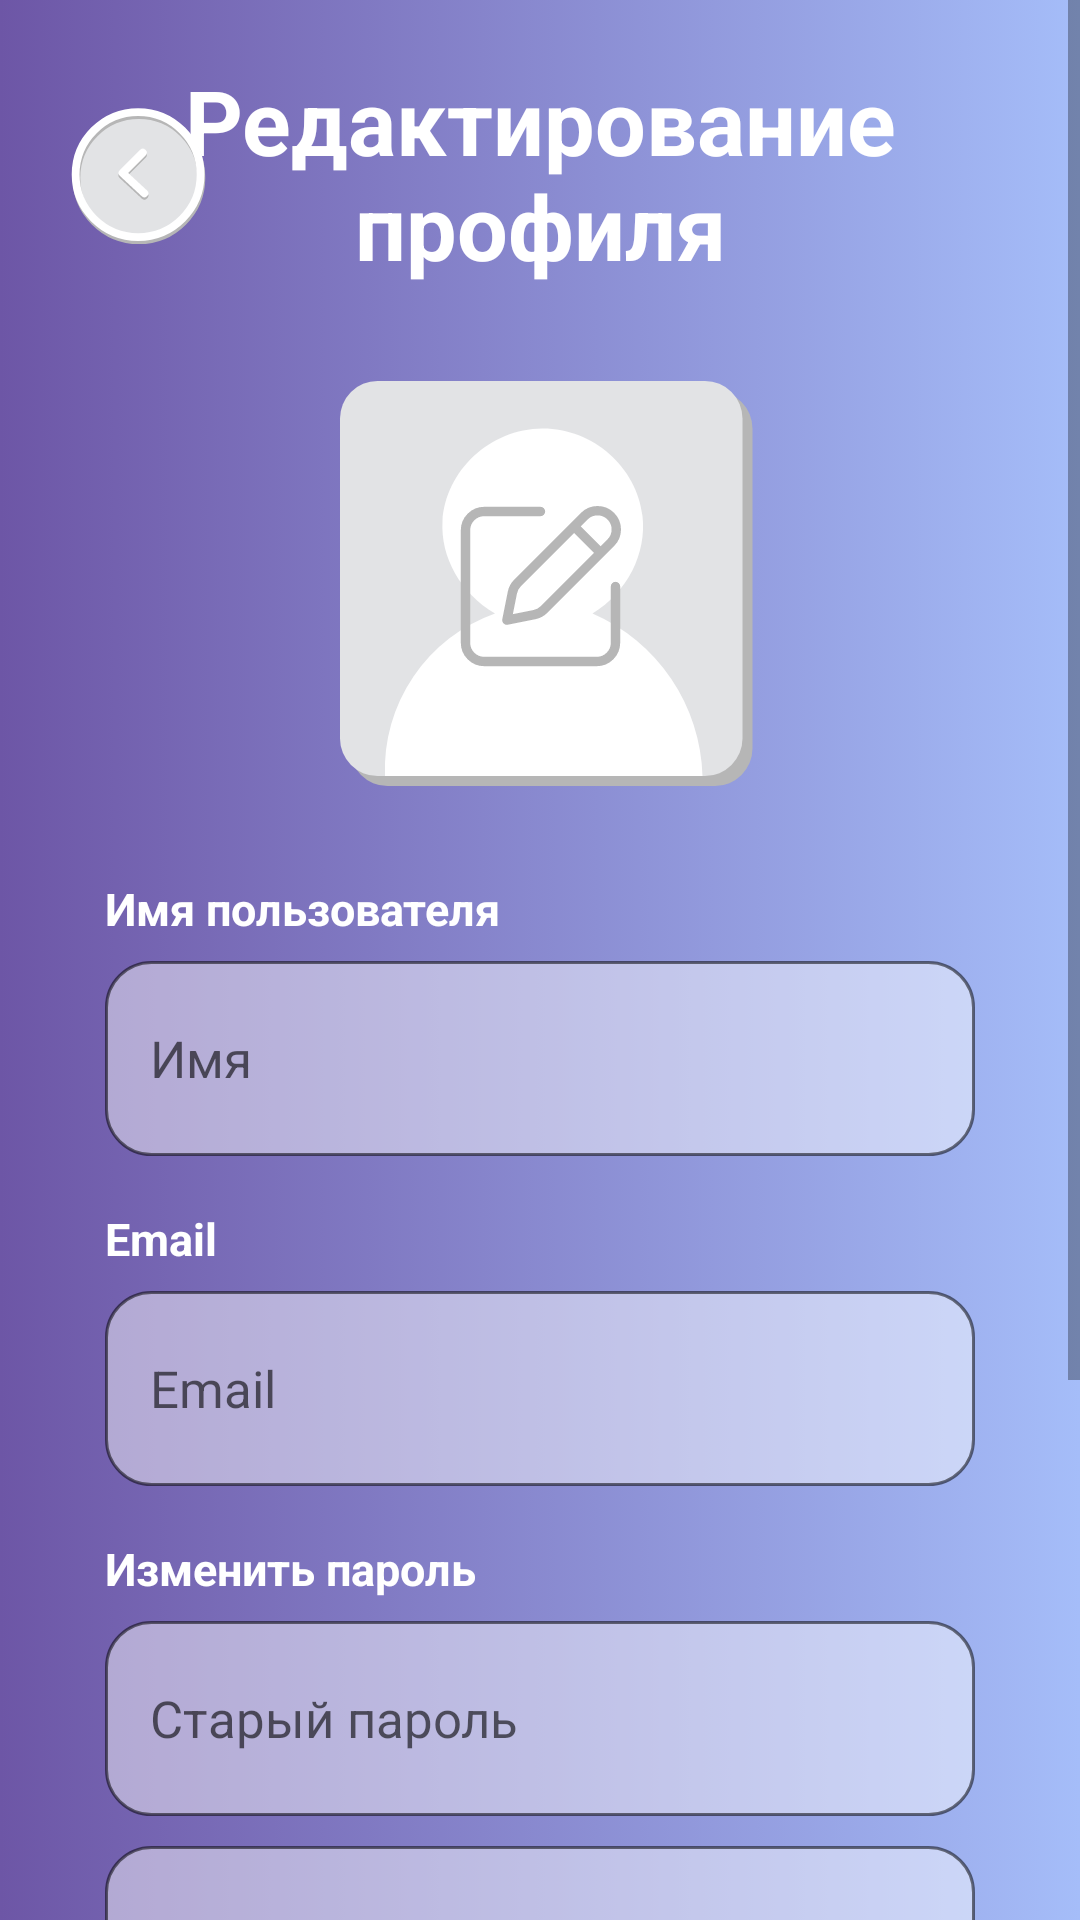

Icon bounding boxes for this 1080w x 1920h phone screenshot, format (x1=x1, y1=y1, x2=x2, y2=y2):
arrow five: (x1=71, y1=98, x2=210, y2=244)
